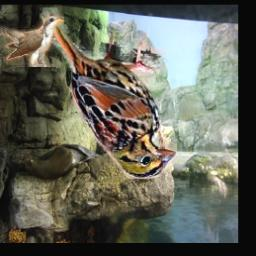Cuckoo: (0, 13, 64, 68)
Sparrow: (41, 7, 178, 179)
